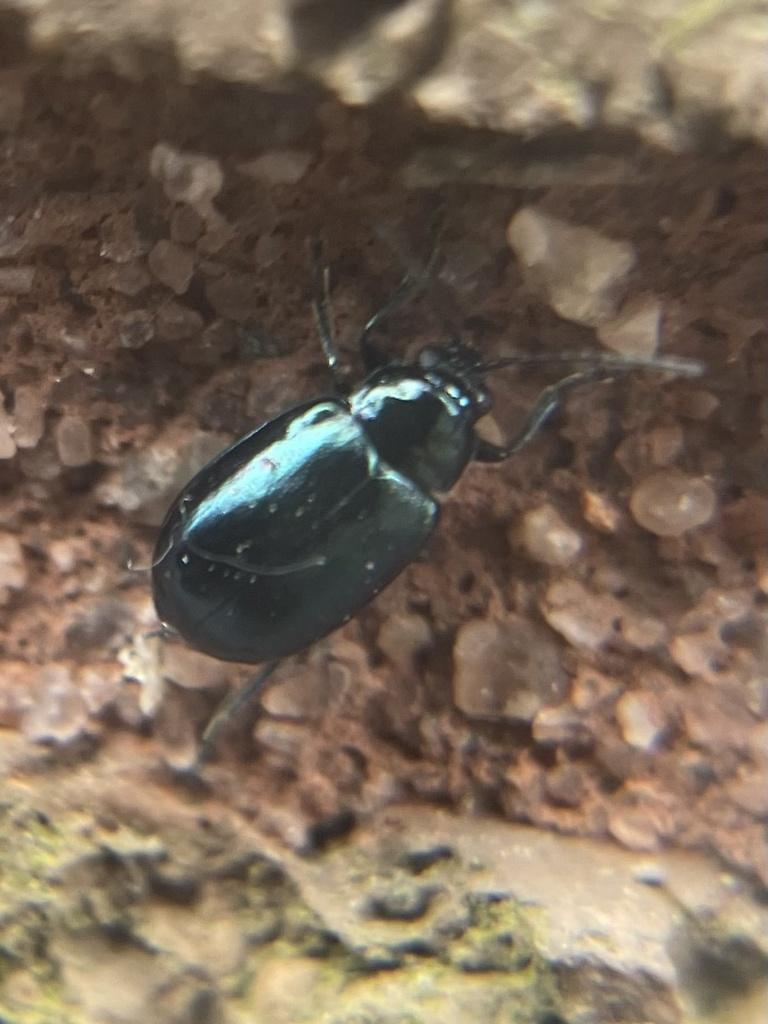flea_beetle: (26, 160, 768, 859)
